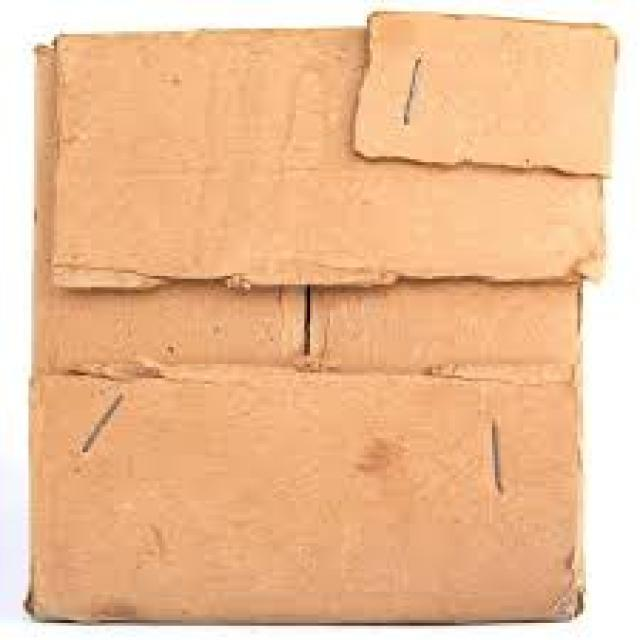Cardboard: (24, 14, 616, 618)
